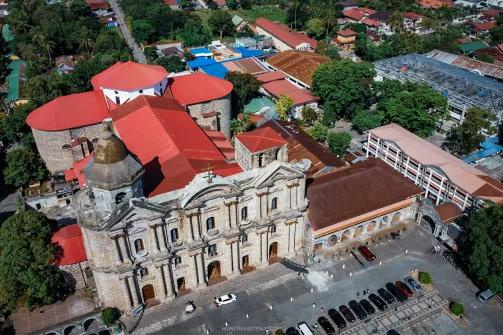taal_basilica_church_taal_batangas: (58, 110, 330, 303)
